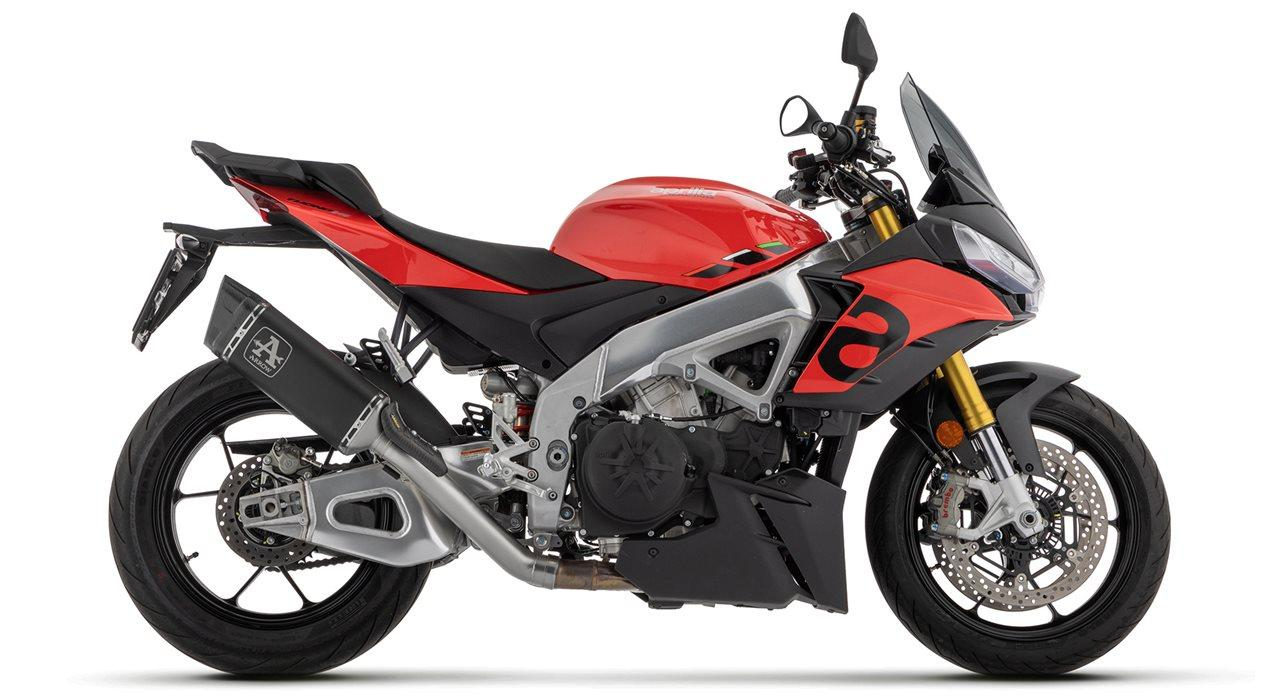engine-chasis: (462, 224, 880, 615)
exhaust: (203, 274, 645, 593)
frontside: (773, 72, 1082, 540)
handlebar: (771, 11, 918, 236)
rearside: (130, 140, 710, 538), (238, 464, 482, 569)
seat: (293, 160, 606, 291)
tank: (549, 175, 833, 293)
wheel: (107, 358, 435, 679), (864, 383, 1172, 678), (899, 373, 954, 465), (890, 407, 945, 467), (253, 554, 360, 573)
